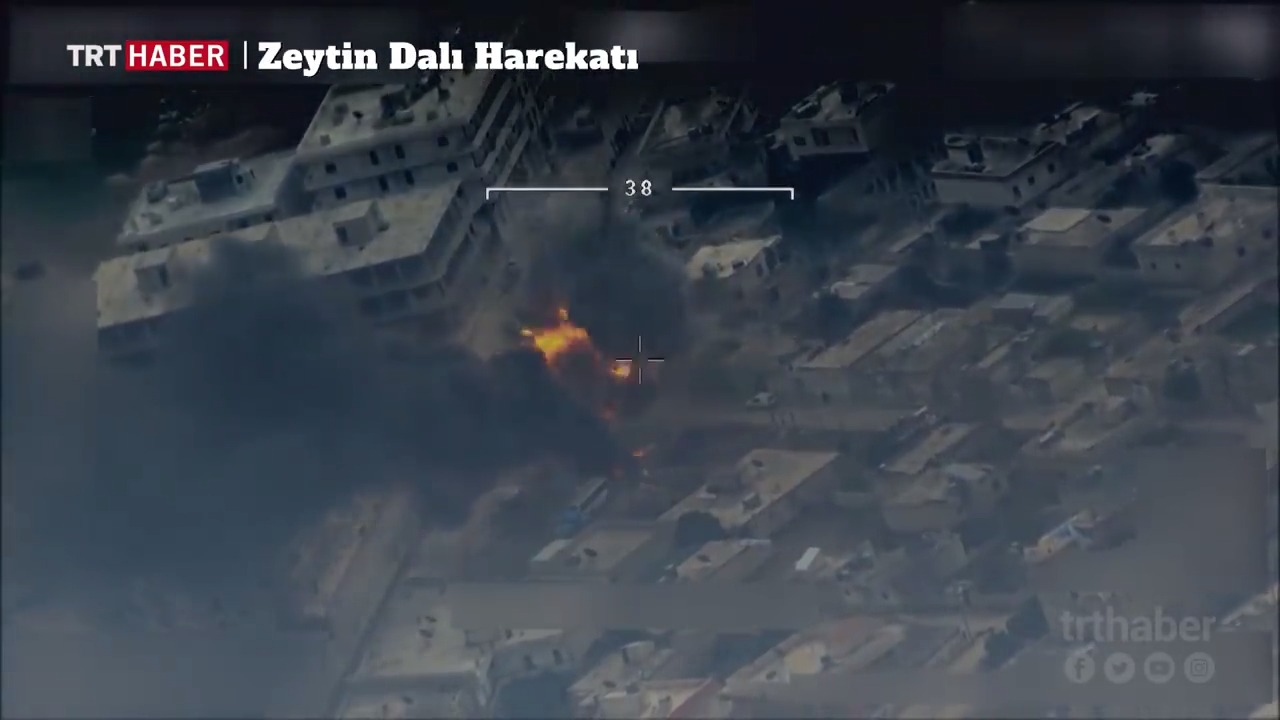arac: (743, 384, 777, 415)
